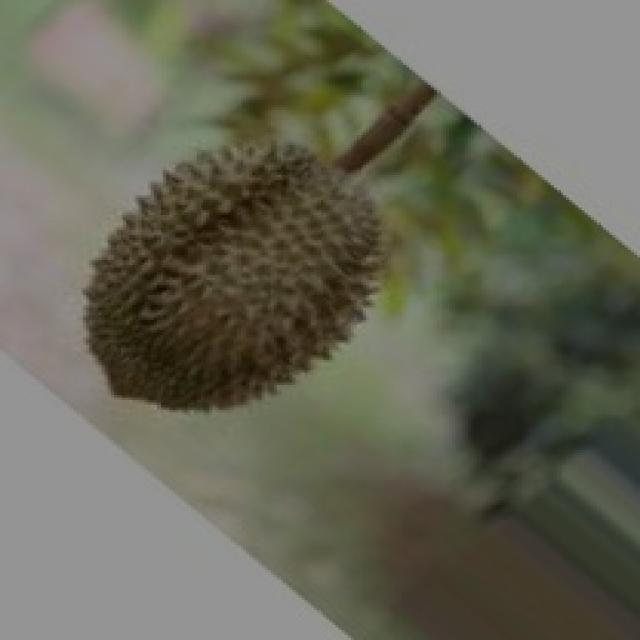fruit: (46, 88, 434, 458)
